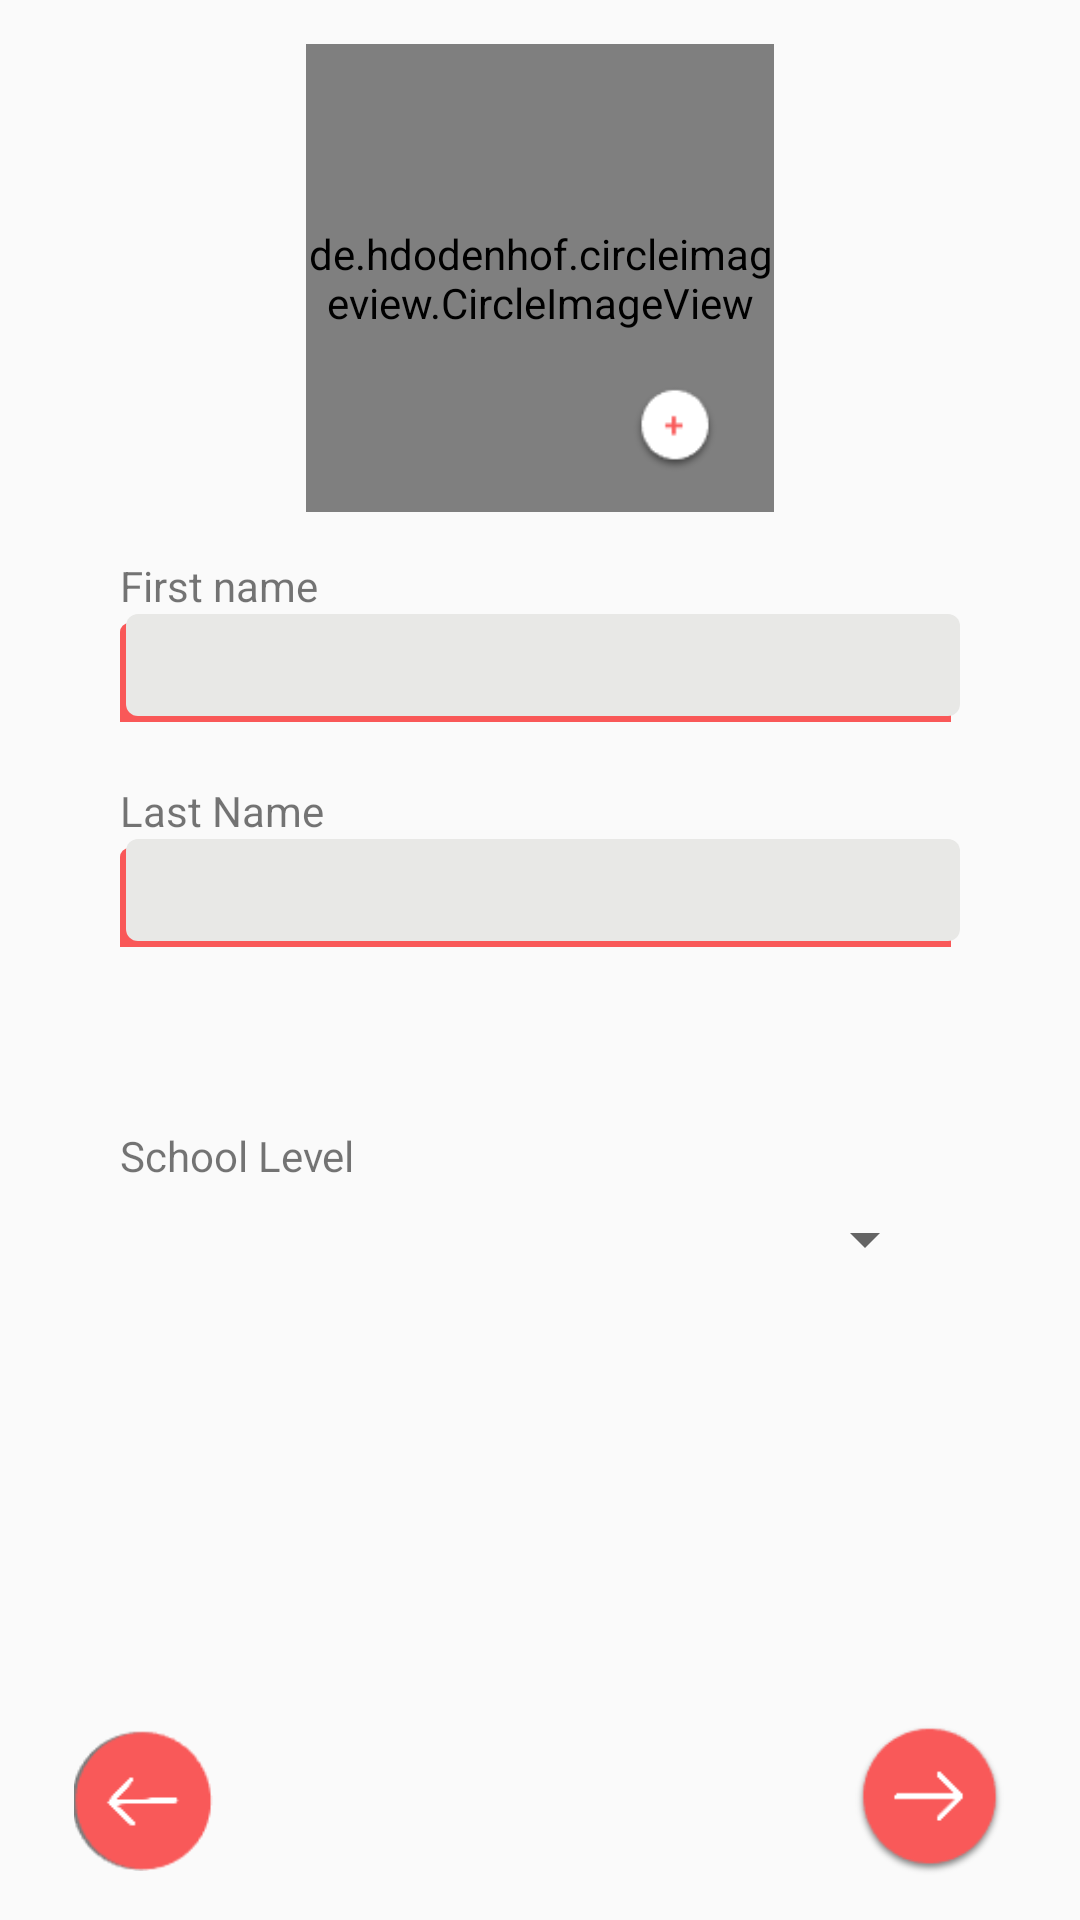

Locate icon controls on the screen. Image size 1080px×1920px, boxes as (x1, y1, x2, y2).
ajouter: (641, 390, 709, 464)
left arrow: (74, 1731, 211, 1871)
right arrow: (860, 1728, 999, 1870)
